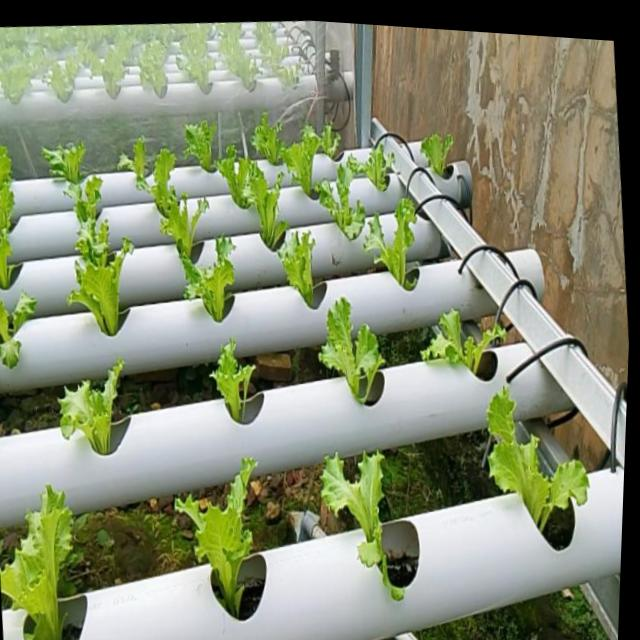Baby: (492, 383, 595, 528), (177, 455, 259, 616), (324, 448, 409, 598), (0, 484, 76, 640), (322, 293, 388, 399), (140, 169, 212, 262), (63, 357, 126, 453), (425, 301, 514, 367), (233, 157, 293, 250), (367, 193, 421, 287), (174, 113, 233, 198), (76, 251, 128, 336), (285, 121, 343, 195), (318, 156, 369, 239), (214, 335, 257, 418), (79, 195, 119, 284), (199, 236, 237, 320), (0, 291, 40, 369), (281, 229, 321, 306), (351, 135, 399, 189), (120, 136, 158, 192), (45, 142, 89, 185), (254, 111, 288, 164), (0, 154, 18, 236), (424, 128, 457, 169)
